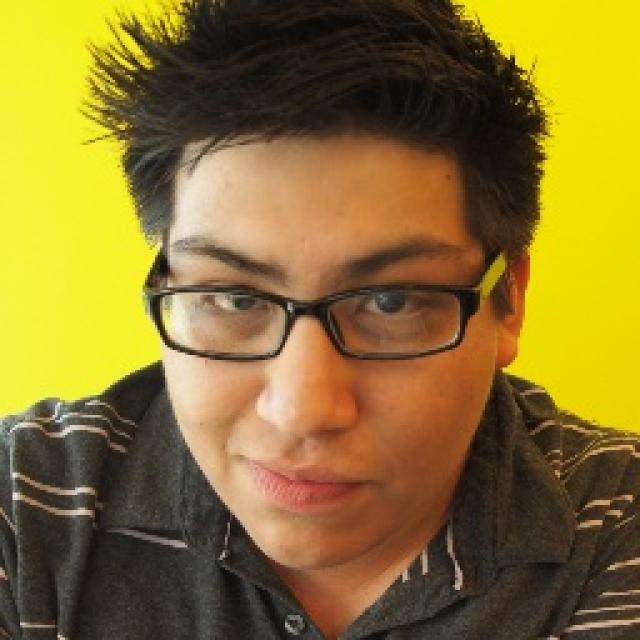earlobe: (492, 246, 530, 369)
